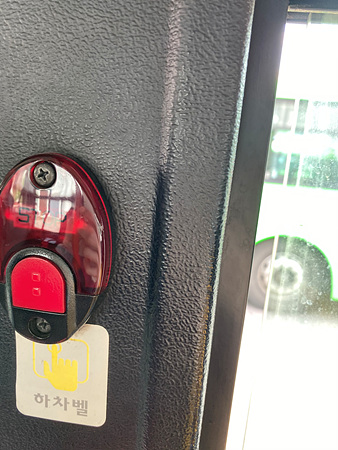bell: (2, 152, 115, 345)
